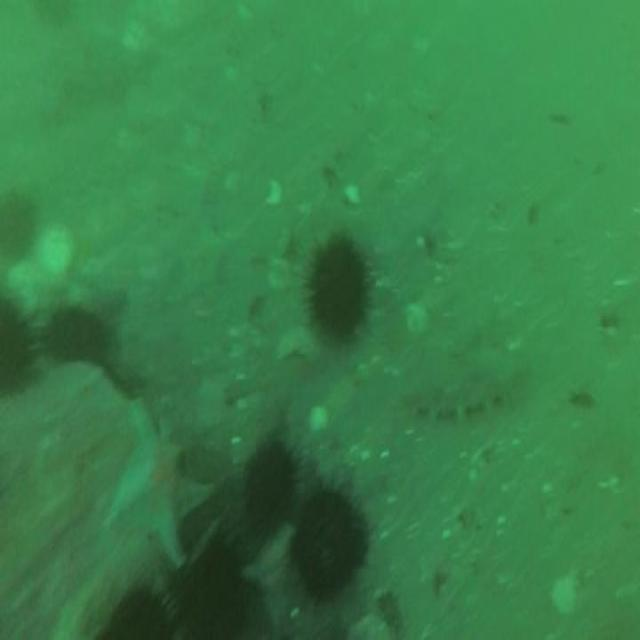echinus: (295, 490, 364, 600), (182, 553, 252, 640), (310, 243, 367, 335), (242, 448, 293, 532), (0, 300, 30, 402), (51, 303, 100, 365), (111, 594, 166, 640)
holothurian: (402, 358, 513, 424)
starfish: (109, 402, 210, 562)
